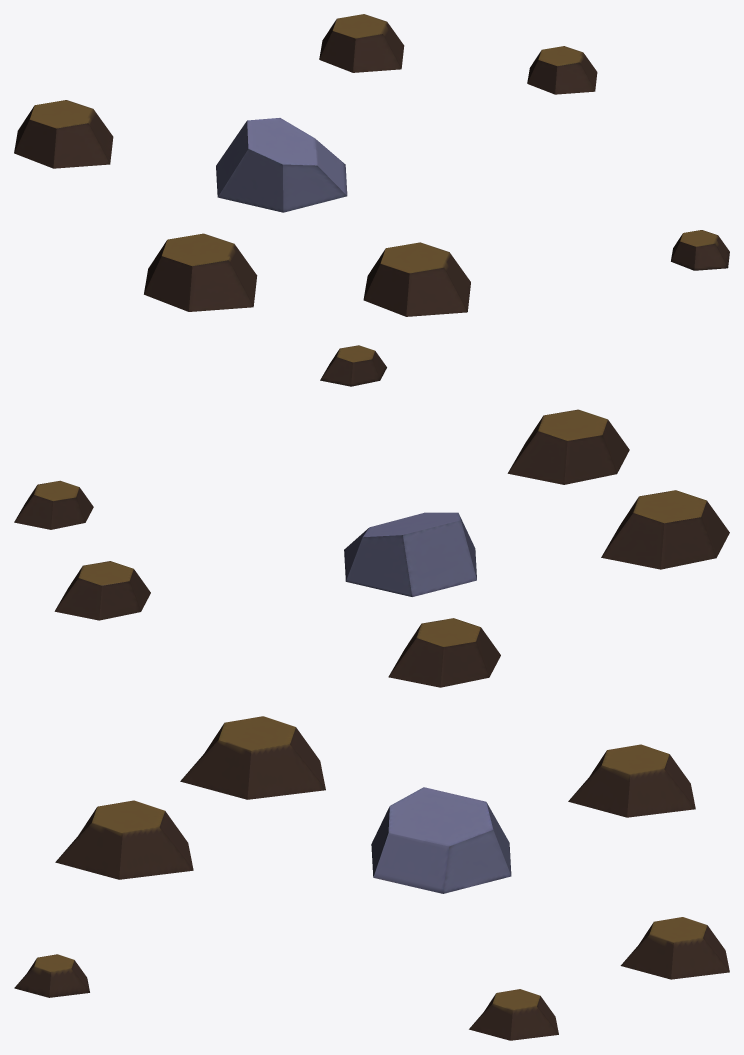
File: tile_wood_6_ruin_lod0.fbx
3 renders of one model, top to bottom at view 1: azimuth 30°, elevation 25°; view 2: azimuth 150°, elevation 25°; view 3: azimuth 270°, elevation 25°, orthographic. The views are drawn at different scales.
Visible parts, largest first — view 1: wood_6_ruin_lod0; view 2: wood_6_ruin_lod0; view 3: wood_6_ruin_lod0.
Boxes of the visible parts, bbox=[...] form: wood_6_ruin_lod0: bbox=[14, 14, 729, 316]; wood_6_ruin_lod0: bbox=[14, 345, 729, 687]; wood_6_ruin_lod0: bbox=[14, 716, 729, 1040].
Size of the model in its own units: 0.0462 by 0.00378 by 0.0473.
